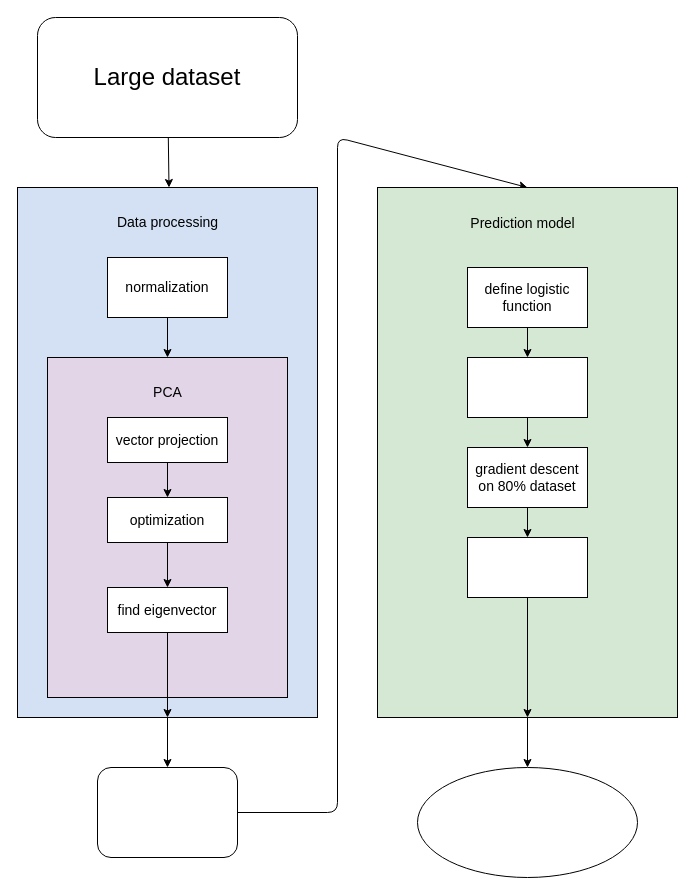
Some shapes in this 695 by 895 pixel diagram are drawn without their labels. Each missing label, with the centre of its shape:
define cost function: the point at 527,387
LOL prediction model: the point at 527,822
small dataset: the point at 167,812
testing accuracy on 20% dataset: the point at 527,567
